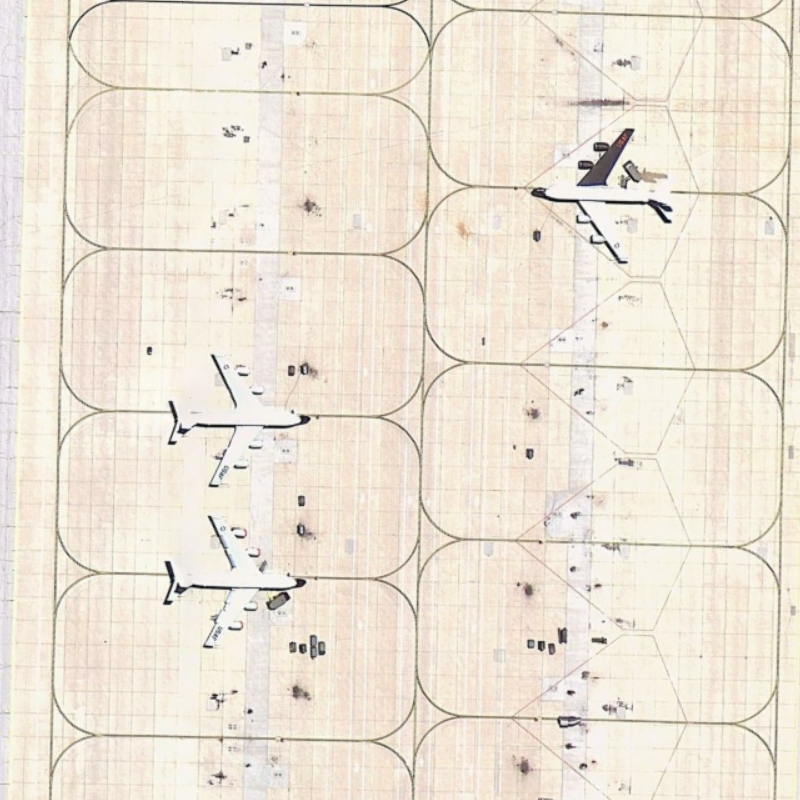A11: (152, 506, 309, 658), (162, 345, 316, 495), (526, 122, 678, 269)
